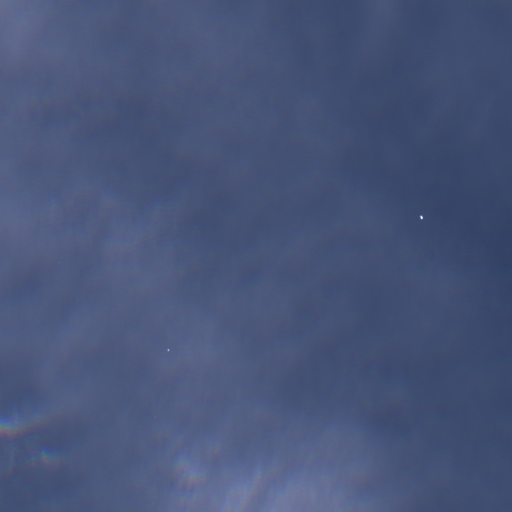Iceberg: (420, 215, 422, 219), (167, 348, 169, 350)
